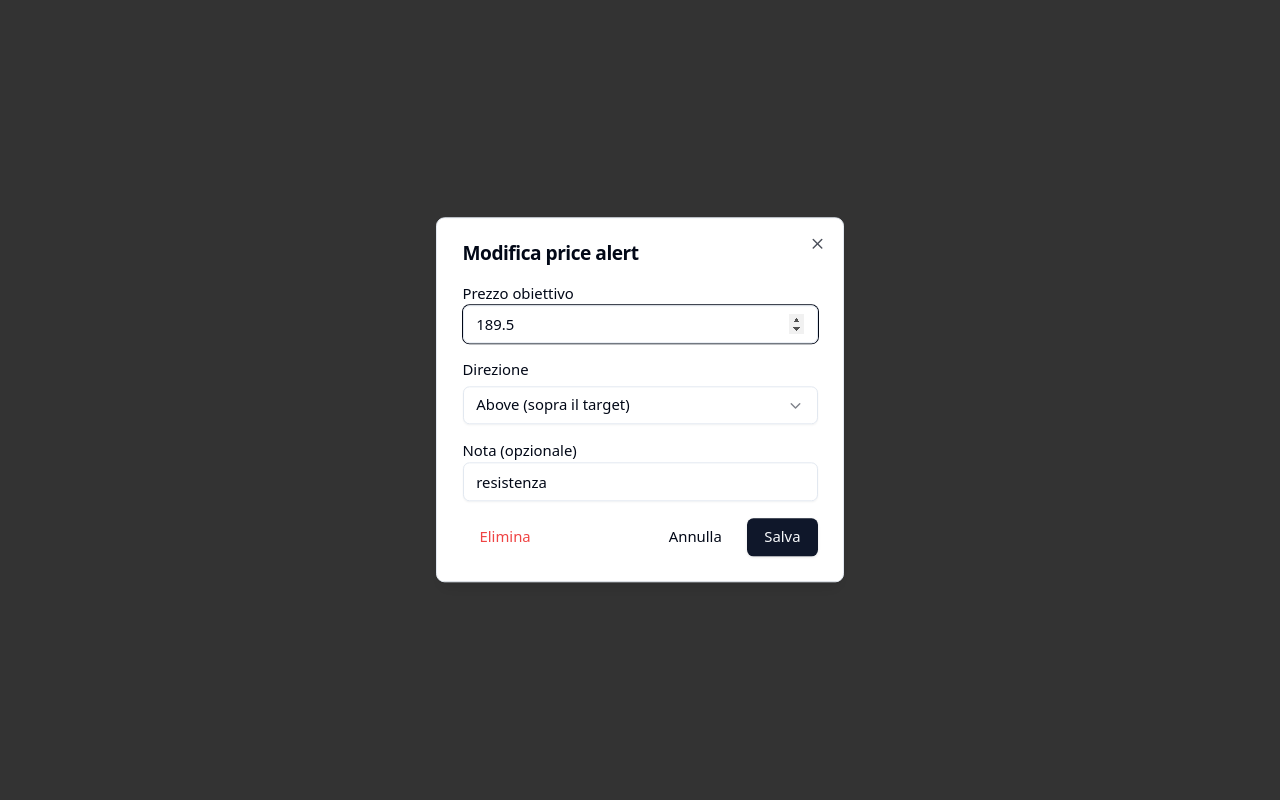
Test: the editor still edits › refuses a non-positive price instead of sending it
Replace the text in the number field labelled "Prezzo obiettivo" with "0": coordinates (640, 325) 462,305 -> 818,344
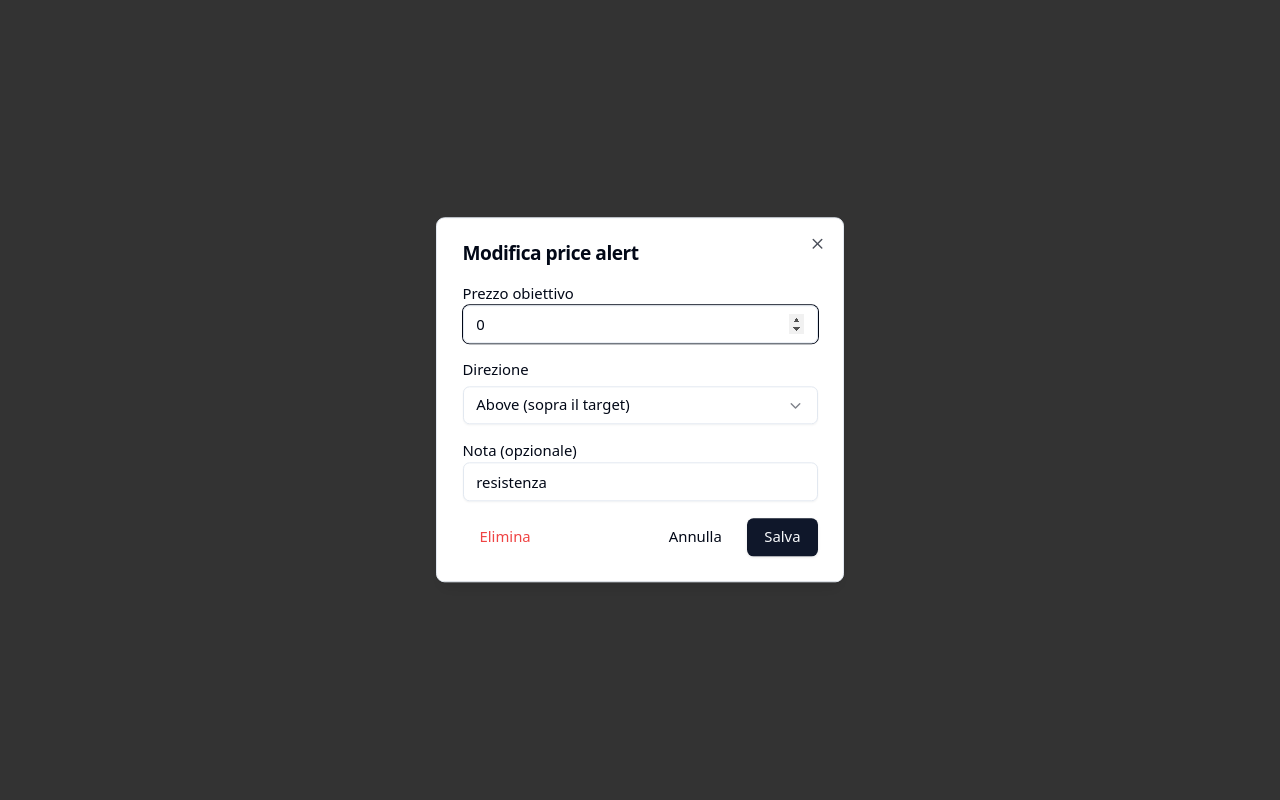
Click the button "Salva": coordinates (782, 537) 747,518 -> 818,556
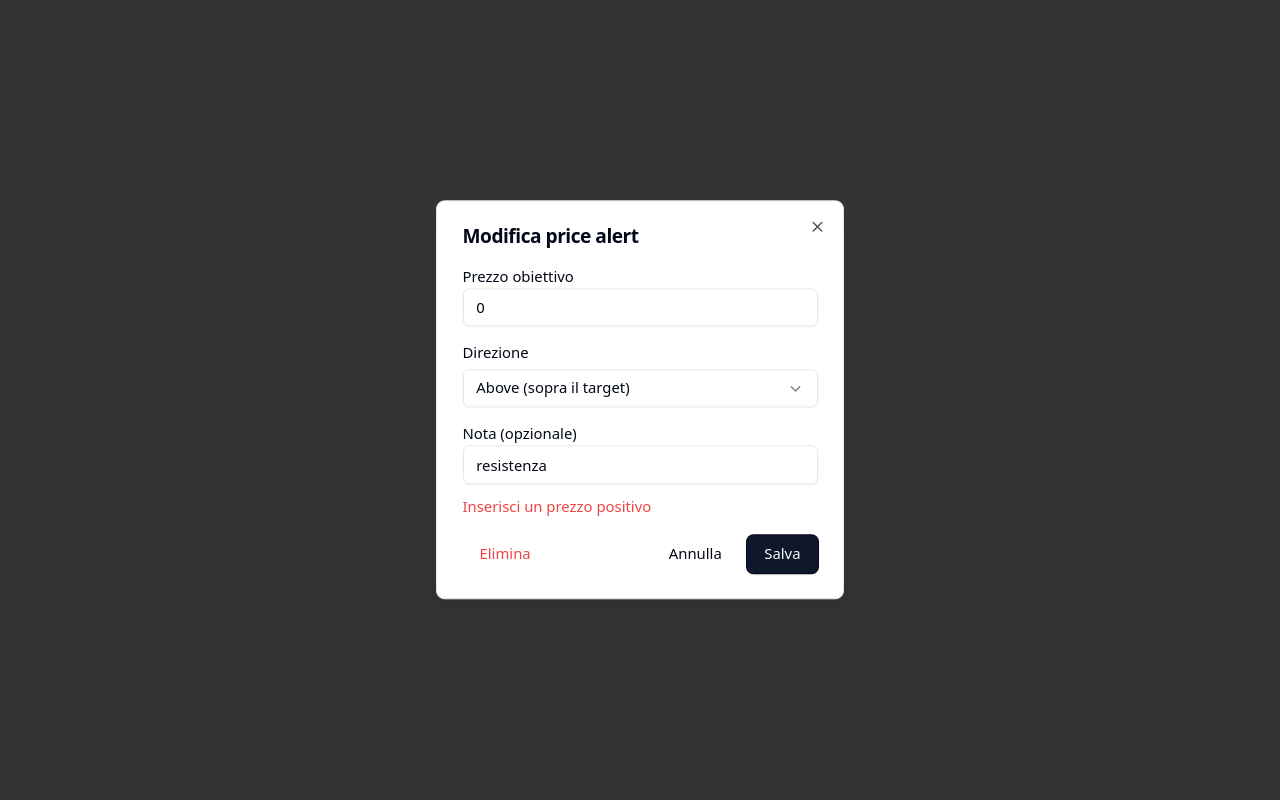
Check: the text "Inserisci un prezzo positivo" is shown, box 462,497 -> 651,517
